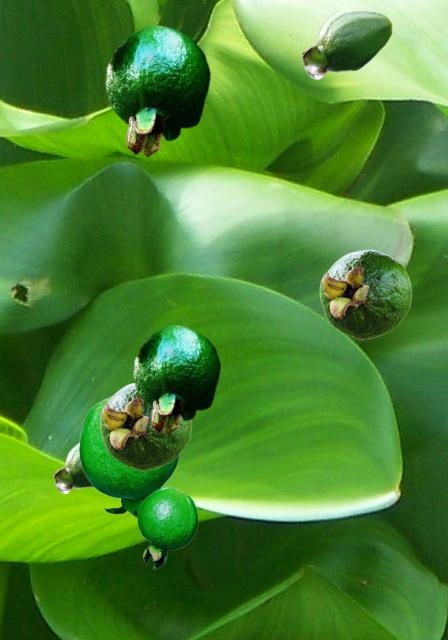guava: (105, 24, 210, 156), (78, 395, 179, 518), (133, 324, 220, 433), (319, 249, 411, 339), (99, 382, 191, 470), (301, 9, 393, 79), (137, 486, 197, 568), (53, 443, 93, 493)
